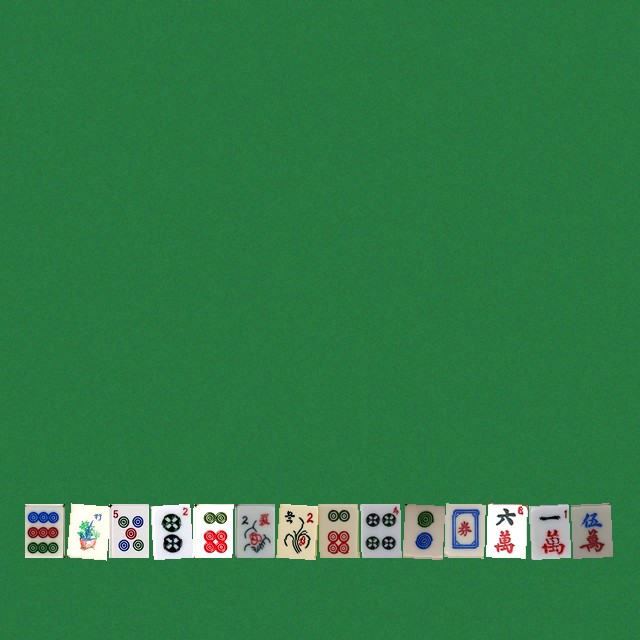tile: (24, 503, 64, 557), (66, 503, 106, 557), (108, 503, 148, 557), (150, 503, 190, 557), (192, 503, 232, 557), (234, 503, 274, 557), (276, 503, 316, 557), (318, 503, 358, 557), (360, 503, 400, 557), (402, 503, 442, 557), (444, 503, 484, 557), (486, 503, 526, 557), (528, 503, 568, 557), (570, 503, 610, 557)
